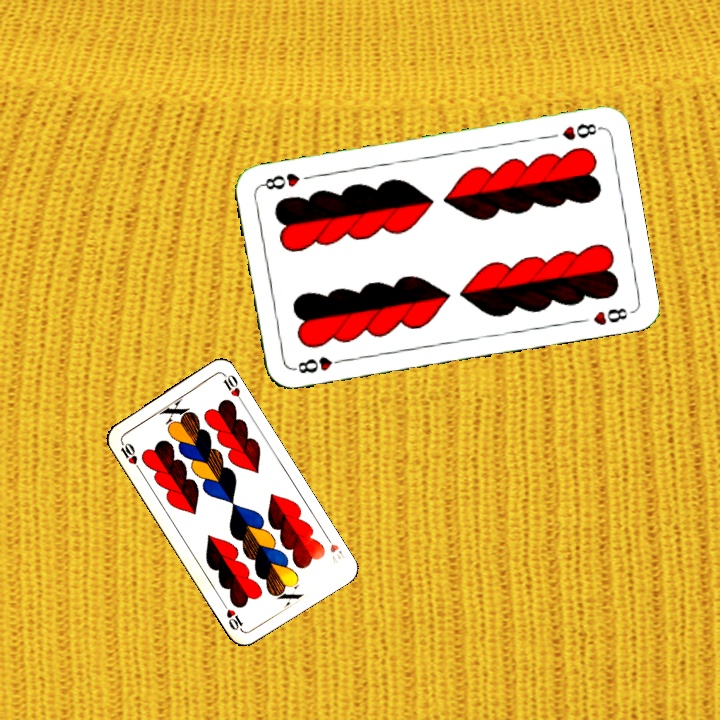H10: (116, 436, 143, 473), (321, 530, 348, 562)
H8: (289, 352, 348, 376), (558, 119, 603, 143)
